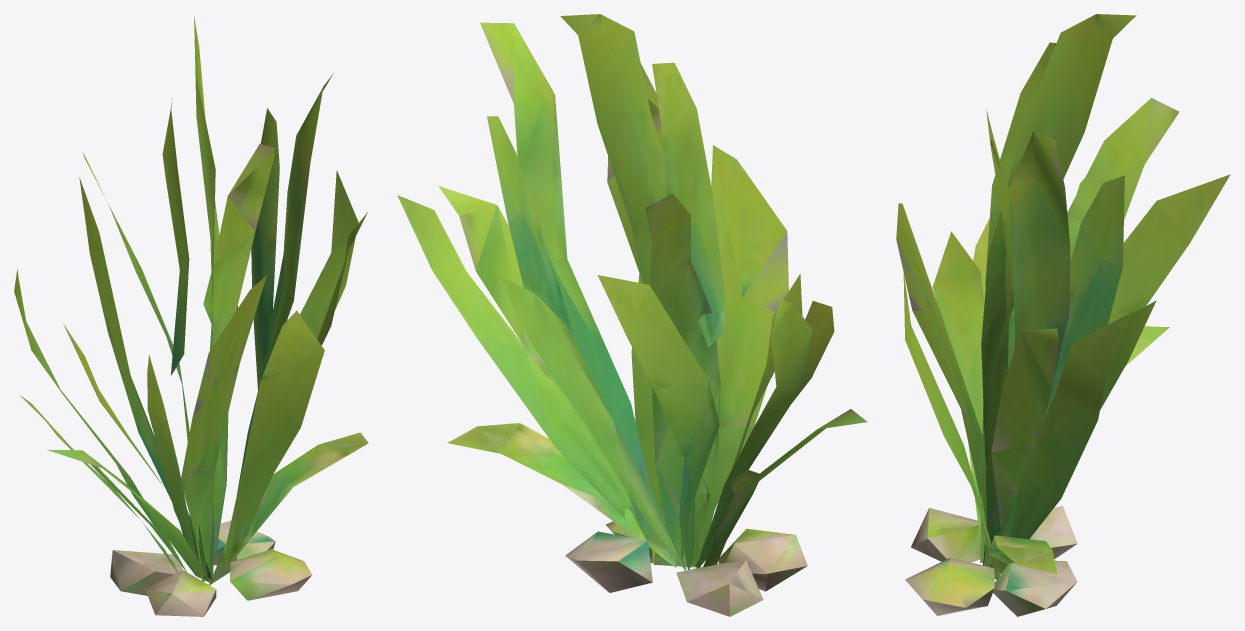
File: alga_0_250.glb
3 views of the same model, side by side, from view 1: azimuth 30°, elevation 25°; view 2: azimuth 150°, elevation 25°; view 3: azimuth 270°, elevation 25° (orthographic). The views are drawn at different scales.
Parts seen in each view (by area): view 1: alga_0_malla; view 2: alga_0_malla; view 3: alga_0_malla.
Boxes of the visible parts, x1,y1,x2,y2 form: alga_0_malla: (14,16,368,616); alga_0_malla: (397,14,867,616); alga_0_malla: (896,14,1230,616).
Bounding box in the file's own units: 0.1779 × 0.2549 × 0.1297.
Materials: 1 (1 with a texture image).
